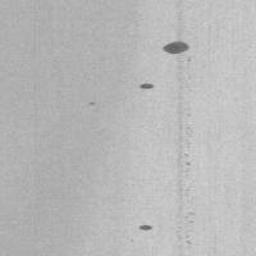Oil spot: (163, 40, 191, 55), (138, 223, 155, 232), (140, 82, 156, 91), (87, 101, 96, 106)
